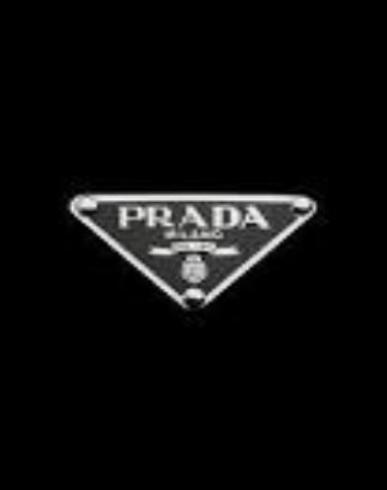PRADA: (105, 196, 273, 234)
